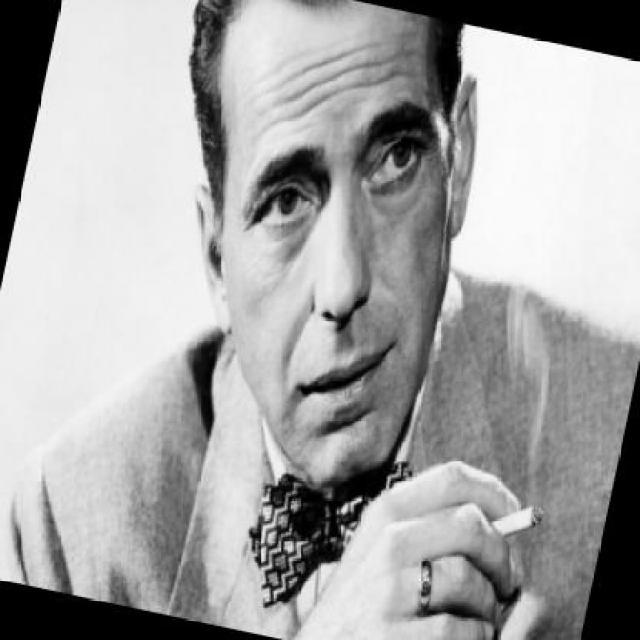smoke: (486, 493, 548, 547)
